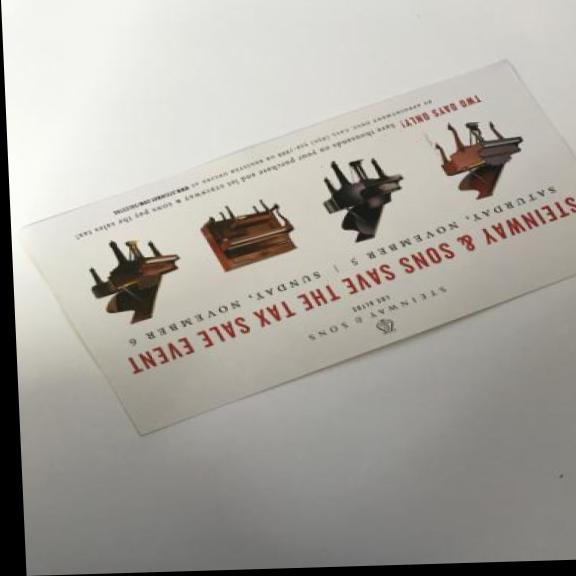Kertas: (3, 52, 576, 448)
